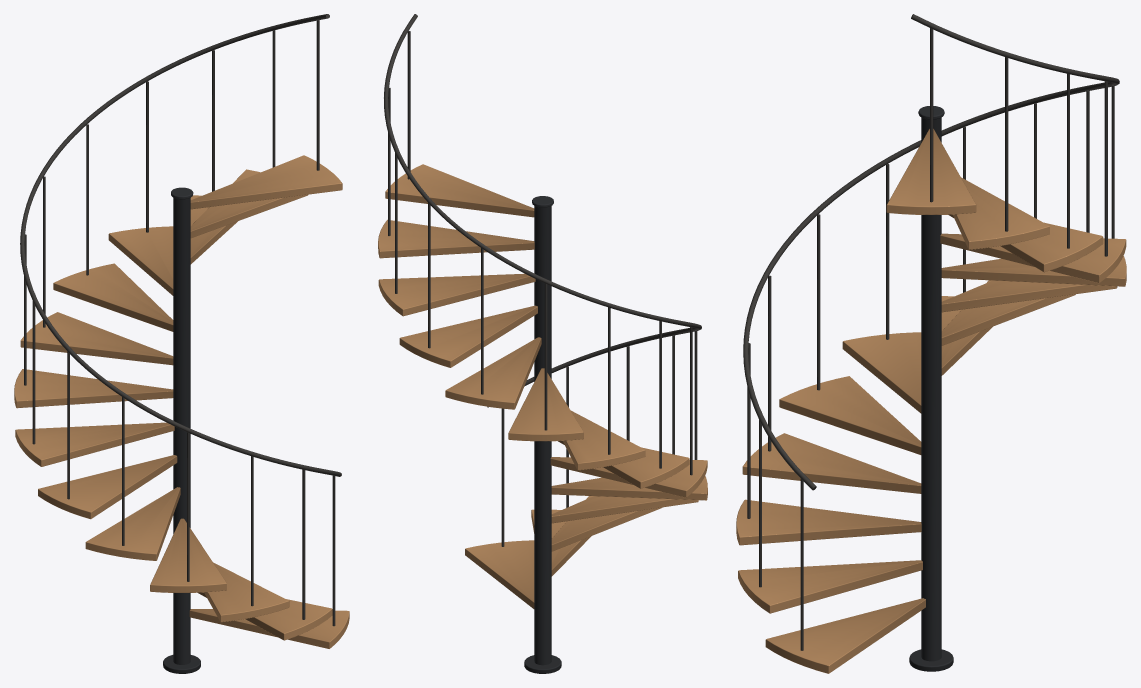
Rendered from stairsSpiral.glb.
3 views of the same model, side by side, from view 1: azimuth 30°, elevation 25°; view 2: azimuth 150°, elevation 25°; view 3: azimuth 270°, elevation 25° (orthographic). The views are drawn at different scales.
Parts seen in each view (by area): view 1: stairsSpiral; view 2: stairsSpiral; view 3: stairsSpiral.
Boxes of the visible parts, box(x1,y1,x2,y2) form: stairsSpiral: box(14, 14, 349, 673); stairsSpiral: box(378, 14, 707, 673); stairsSpiral: box(736, 14, 1126, 673).
Size of the model in its own units: 1.84 by 3.78 by 1.84.
